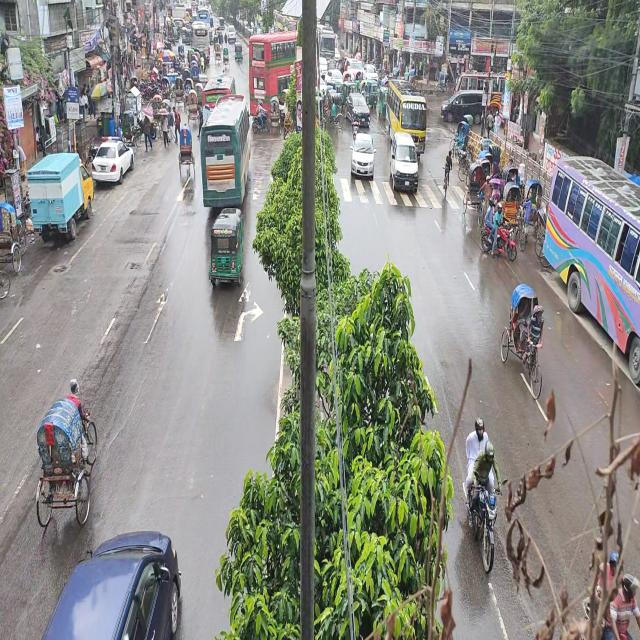black: (442, 88, 488, 128), (345, 92, 370, 129)
blue: (41, 527, 182, 640)
silver: (349, 130, 375, 182)
white: (92, 137, 137, 189), (389, 130, 420, 194)
